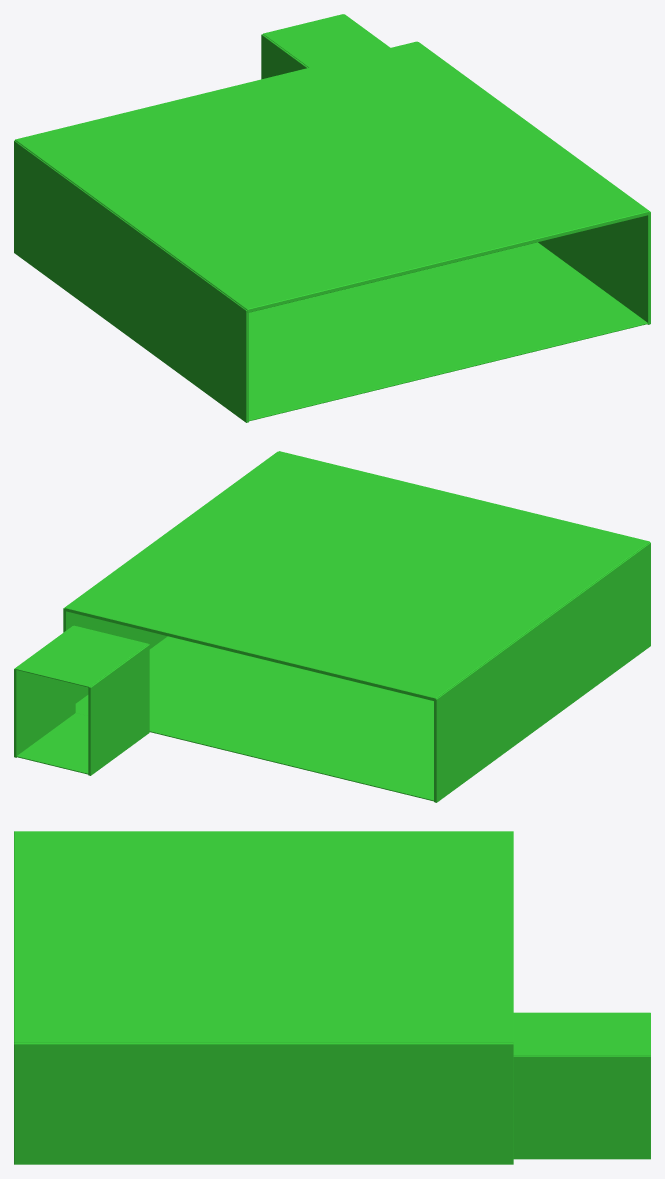
File: HouseParty_Room.fbx
The picture shows the model from 3 angles, top to bottom: view 1: azimuth 30°, elevation 25°; view 2: azimuth 150°, elevation 25°; view 3: azimuth 270°, elevation 25°; orthographic projection. The views are drawn at different scales.
Visible parts, largest first — view 1: Ceiling_Room, Floor1, Wall_Room_1, Wall_Room_2, Ceiling_Hall, Wall_Room_Hall_2; view 2: Ceiling_Room, Floor1, Wall_Room_1, Wall_Room_Hall_2, Ceiling_Hall, Wall_Room_Hall_1, Floor2, Wall_Room_2; view 3: Ceiling_Room, Wall_Room_2, Wall_Room_Hall_1, Ceiling_Hall.
Part boxes in pixels (x1,y1,x2,y2): Ceiling_Room: (15,41,649,312); Floor1: (249,242,647,421); Wall_Room_1: (14,140,248,422); Wall_Room_2: (418,42,650,324); Ceiling_Hall: (263,14,389,67); Wall_Room_Hall_2: (261,34,308,79); Ceiling_Room: (65,451,649,701); Floor1: (75,636,433,801); Wall_Room_1: (434,542,650,802); Wall_Room_Hall_2: (88,644,149,775); Ceiling_Hall: (15,625,147,687); Wall_Room_Hall_1: (14,626,75,757); Floor2: (16,713,88,774); Wall_Room_2: (63,451,277,703); Ceiling_Room: (14,831,513,1042); Wall_Room_2: (14,1043,513,1164); Wall_Room_Hall_1: (513,1055,650,1159); Ceiling_Hall: (513,1013,650,1055).
Size of the model in its own units: 40.28 by 10.78 by 51.03.
